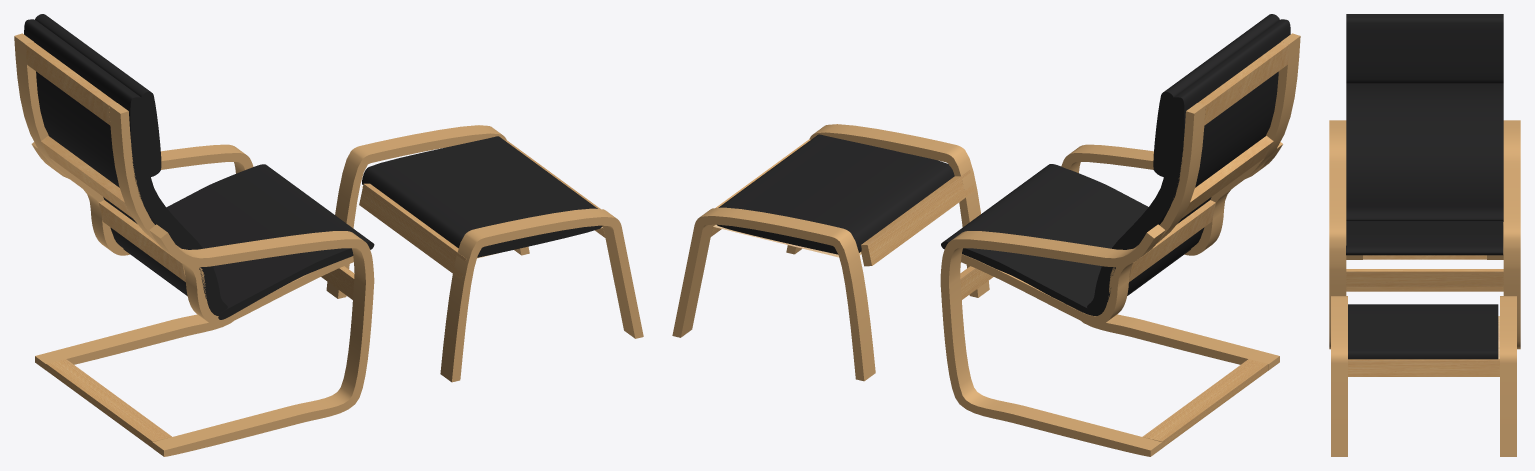
Rendered from chair2.glb.
3 renders of one model, left to right at view 1: azimuth 30°, elevation 25°; view 2: azimuth 150°, elevation 25°; view 3: azimuth 270°, elevation 25°, orthographic. The views are drawn at different scales.
Parts seen in each view (by area): view 1: Line010, Line007, Line006, Line004, Line009, Line003, Line002, Line008, Line001, Box009, Box006, Line005 (+4 smaller); view 2: Line010, Line007, Line006, Line003, Line008, Line004, Line001, Line009, Line002, Box009, Box006, Line005 (+4 smaller); view 3: Line006, Line005, Line010, Line007, Line003, Line004, Box007, Line008, Line009, Box008, Box006, Box005.
Part boxes in pixels (<box>): Line010: <box>362,136,602,257</box>; Line007: <box>123,164,374,319</box>; Line006: <box>24,19,227,315</box>; Line004: <box>149,224,374,456</box>; Line009: <box>440,208,643,382</box>; Line003: <box>31,142,253,370</box>; Line002: <box>109,103,353,325</box>; Line008: <box>326,125,529,298</box>; Line001: <box>14,33,129,255</box>; Box009: <box>359,183,466,279</box>; Box006: <box>46,359,171,447</box>; Line005: <box>35,14,161,176</box>; Line010: <box>717,134,954,254</box>; Line007: <box>941,164,1190,315</box>; Line006: <box>1087,19,1290,315</box>; Line003: <box>940,224,1165,456</box>; Line008: <box>672,207,875,381</box>; Line004: <box>1061,142,1282,370</box>; Line001: <box>961,103,1205,325</box>; Line009: <box>786,124,989,297</box>; Line002: <box>1184,33,1300,255</box>; Box009: <box>861,170,974,266</box>; Box006: <box>1142,359,1268,447</box>; Line005: <box>1153,14,1279,176</box>; Line006: <box>1346,14,1503,221</box>; Line005: <box>1346,16,1503,83</box>; Line010: <box>1348,304,1498,359</box>; Line007: <box>1346,221,1503,255</box>; Line003: <box>1503,120,1520,349</box>; Line004: <box>1329,120,1346,349</box>; Box007: <box>1346,269,1503,286</box>; Line008: <box>1500,296,1516,456</box>; Line009: <box>1331,296,1347,456</box>; Box008: <box>1348,359,1499,376</box>; Box006: <box>1346,286,1503,291</box>; Box005: <box>1363,255,1486,259</box>.
Size of the model in its own units: 61.45 by 41.04 by 26.77.
Materials: 3 (3 with a texture image).
